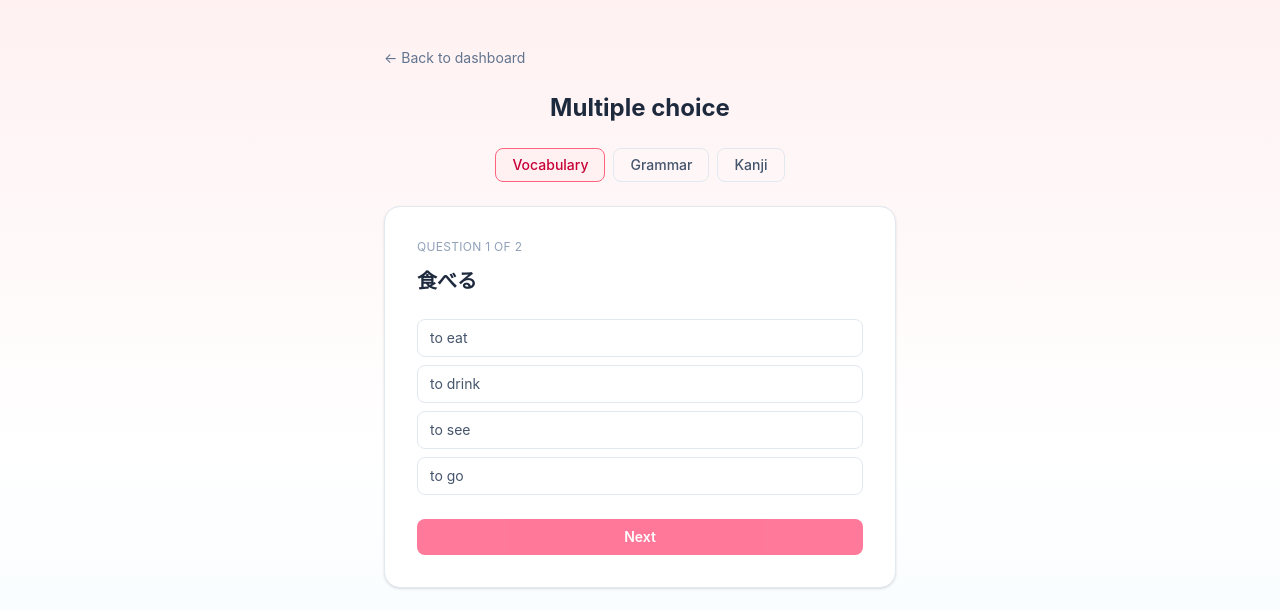
QuizPage › collects answers across questions and submits them together
The width and height of the screenshot is (1280, 610).
expect the text "食べる" is shown: met, box [417,269,477,293]
Click the radio button labelled "to eat" at {"x": 449, "y": 338}, box [417,319,863,357]
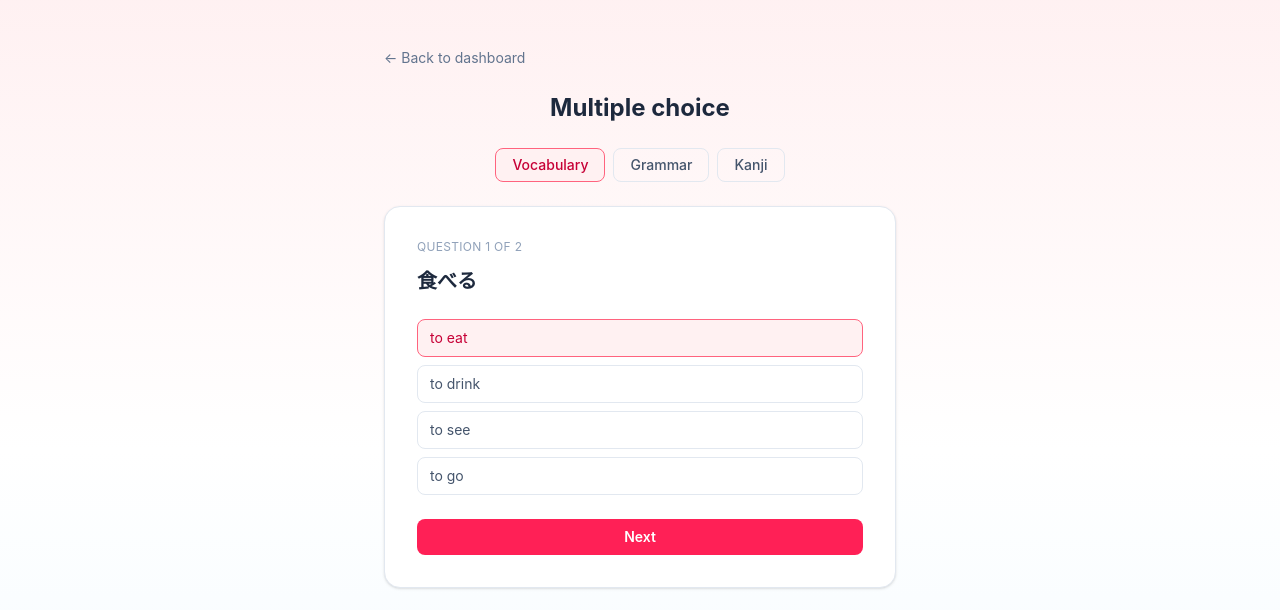
Click the button "Next" at {"x": 640, "y": 537}, box [417,519,863,555]
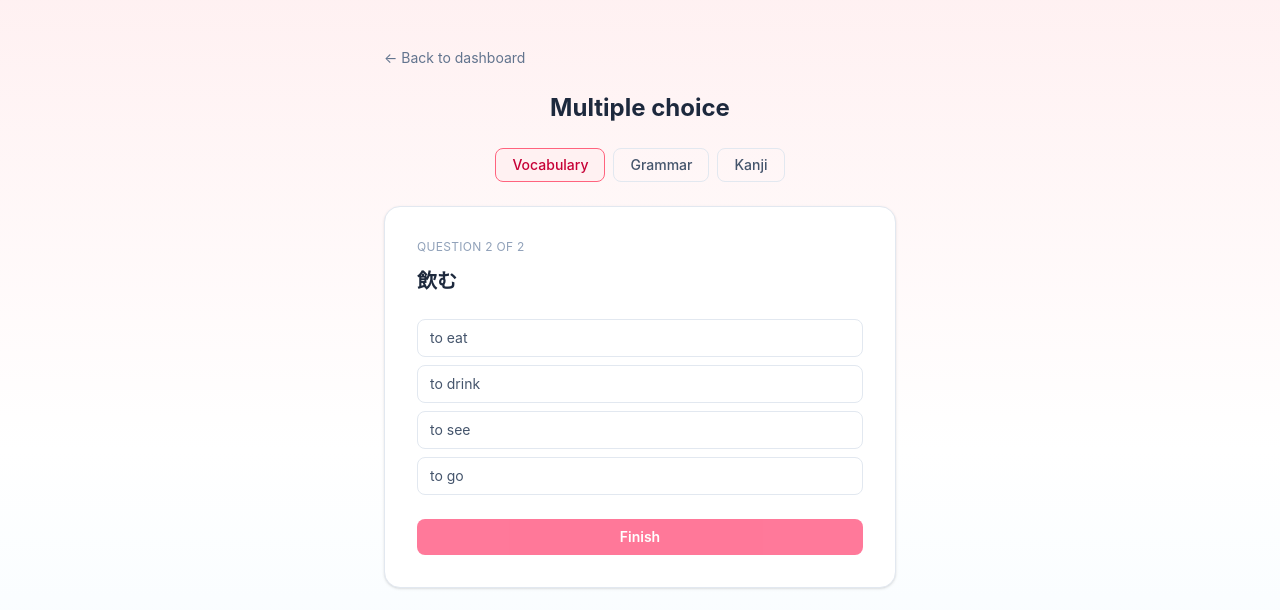
expect the text "飲む" is shown: met, box [417,269,457,293]
Click the radio button labelled "to go" at {"x": 447, "y": 476}, box [417,457,863,495]
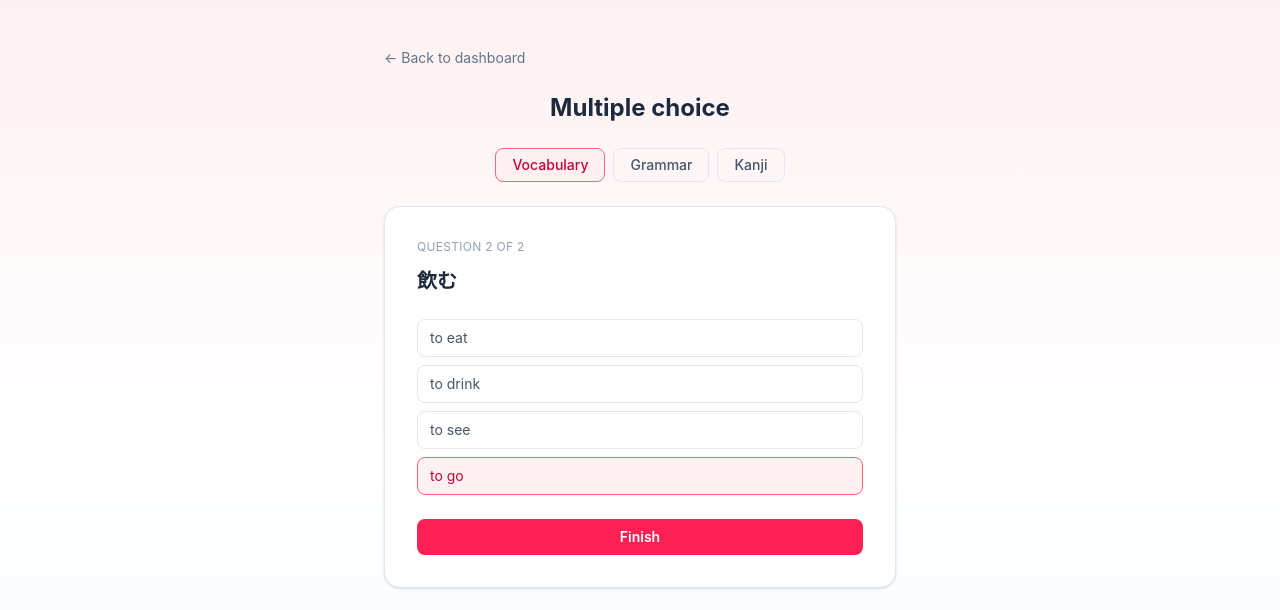
Click the button "Finish" at {"x": 640, "y": 537}, box [417,519,863,555]
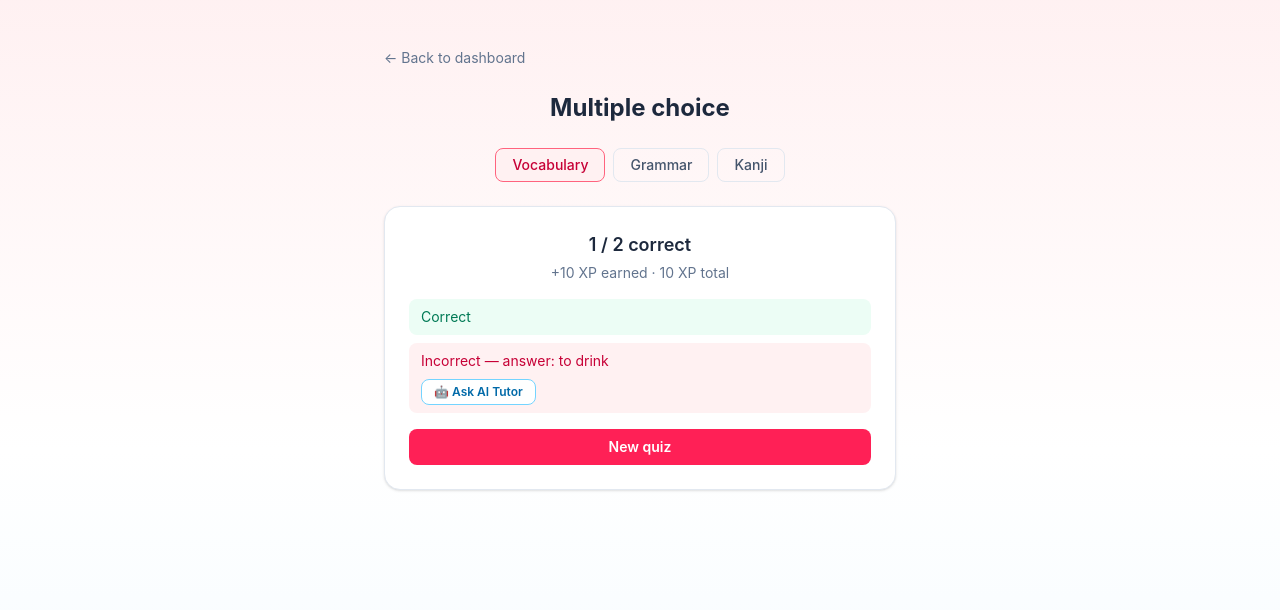
expect the text "1 / 2 correct" is shown: met, box [589,234,691,255]
